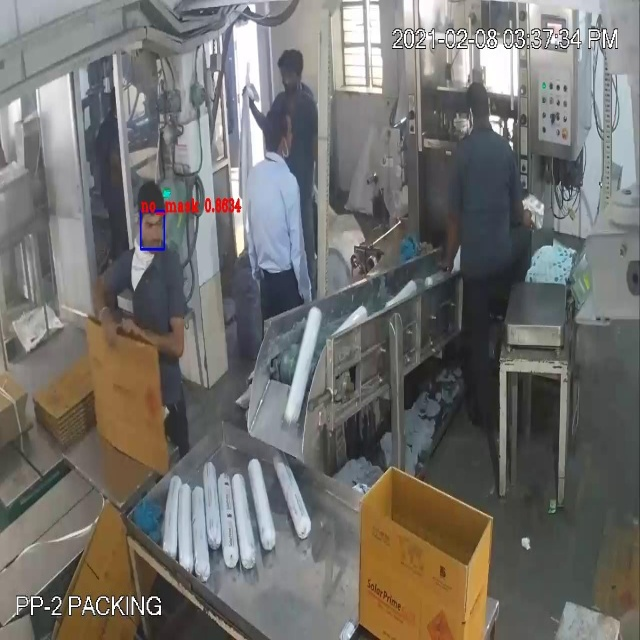Sin_guantes: (80, 252, 129, 348), (124, 304, 190, 369)
